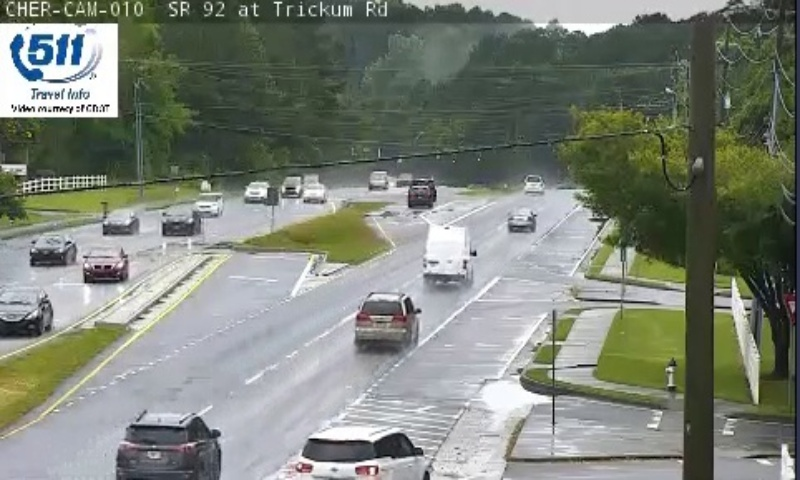car: (116, 413, 220, 480), (355, 294, 416, 344), (507, 207, 536, 232)
van: (424, 223, 471, 283)
